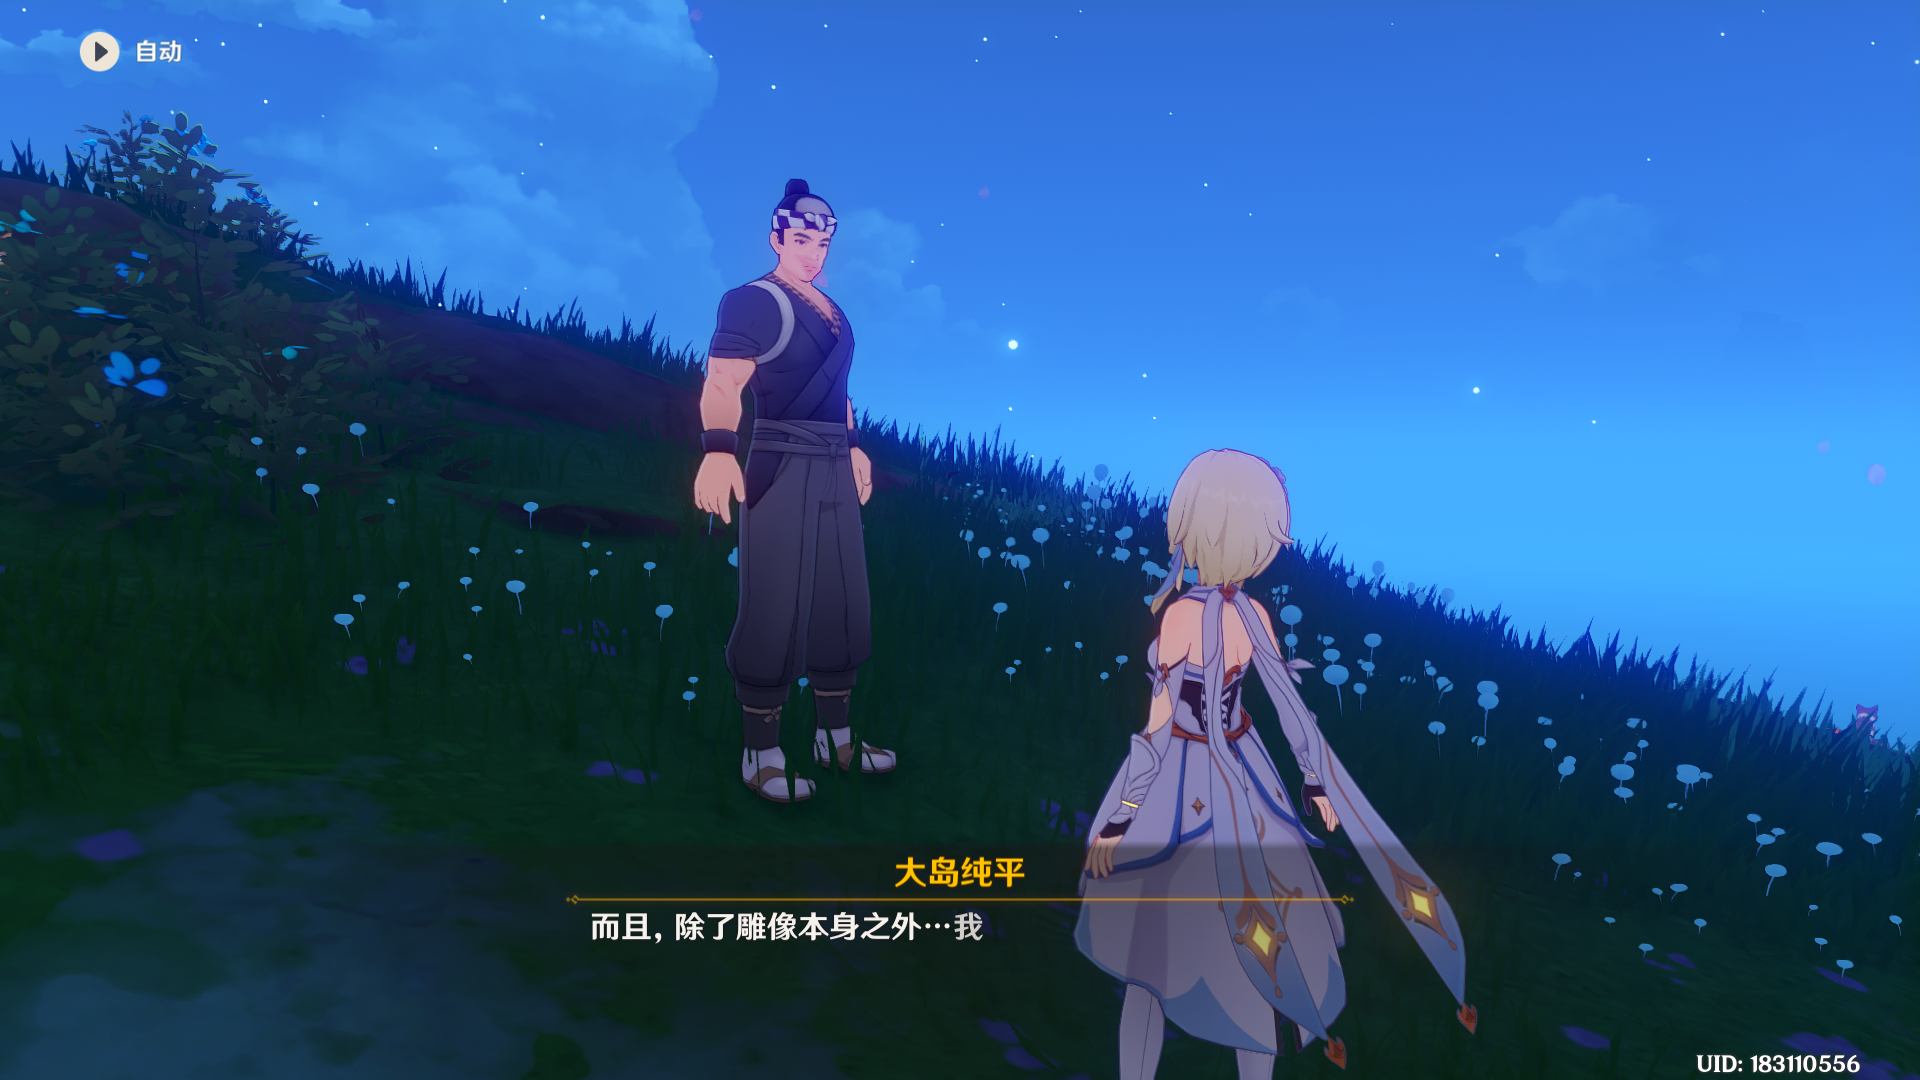character: (1018, 396, 1490, 1080)
